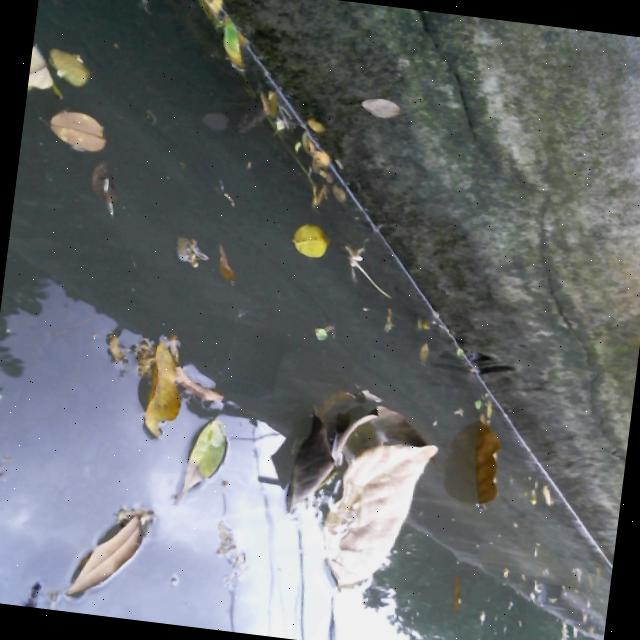Big-leaf: (263, 396, 428, 592), (122, 323, 199, 444), (463, 418, 527, 511)
Small-leaf: (54, 493, 168, 622), (177, 403, 231, 507), (263, 208, 342, 268), (42, 108, 125, 157), (74, 156, 125, 232), (168, 359, 235, 411), (200, 6, 252, 73), (205, 239, 252, 294), (24, 37, 60, 105), (48, 41, 97, 86), (364, 293, 400, 332), (302, 315, 340, 346), (101, 329, 128, 367), (463, 391, 500, 418), (411, 329, 435, 370), (447, 566, 467, 612), (530, 481, 553, 516)
